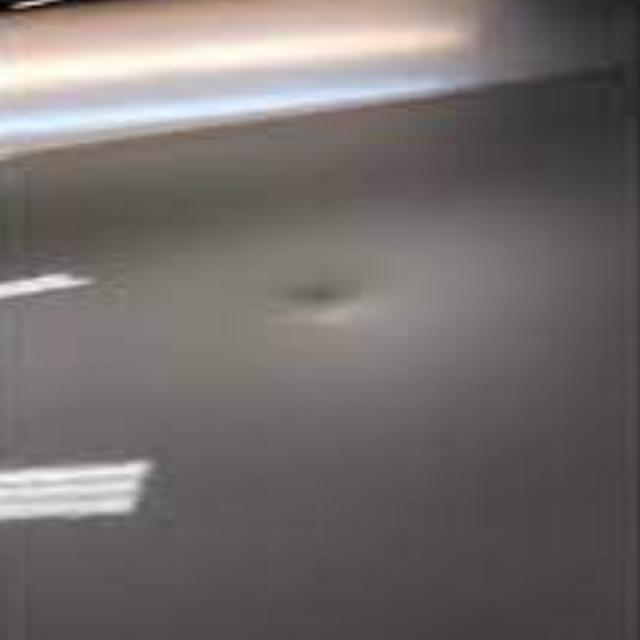dents: (222, 233, 413, 354)
